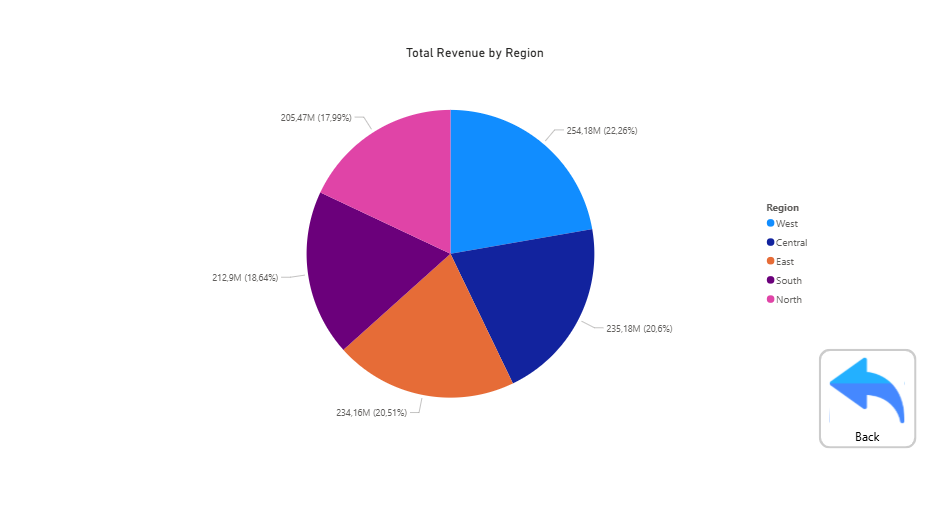

This screenshot's page, from the dashboard's own definition file:
{"tool":"powerbi","page":{"name":"Sales by region","canvas":[1280,720],"ordinal":6},"visuals":[{"type":"pieChart","fields":{"Category":["customer_location.Region"],"Y":["sale.Total Revenue"]},"box":[181.1,67.2,916.6,537.9],"z":0},{"type":"actionButton","box":[1097.8,472,130.4,133.1],"z":1000}]}

Visuals, with their boxes in screenshot pixels (x1, y1, x2, y2), scaled from the page's 1280x720 canvas onto the 948x531 screenshot:
pieChart - customer_location.Region x sale.Total Revenue: {"x1": 134, "y1": 50, "x2": 813, "y2": 446}
actionButton: {"x1": 813, "y1": 348, "x2": 910, "y2": 446}
